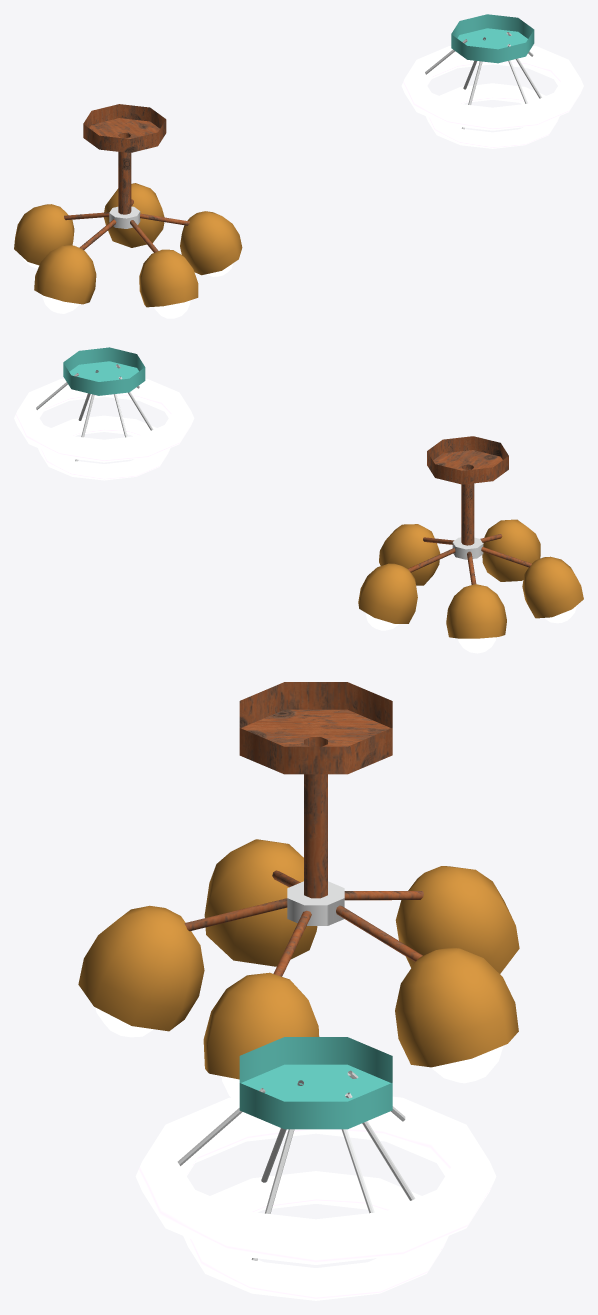
File: Lights.fbx
3 views of the same model, one above another, from view 1: azimuth 30°, elevation 25°; view 2: azimuth 150°, elevation 25°; view 3: azimuth 270°, elevation 25° (orthographic). The views are drawn at different scales.
Visible parts, largest first — view 1: Classic_light.001, Classic_light; view 2: Classic_light.001, Classic_light; view 3: Classic_light.001, Classic_light.
Part boxes in pixels (box(x1,y1,x2,y2)): Classic_light.001: box(14, 104, 242, 318); Classic_light: box(401, 14, 583, 148); Classic_light.001: box(358, 436, 583, 653); Classic_light: box(14, 347, 194, 480); Classic_light.001: box(78, 682, 519, 1097); Classic_light: box(135, 1037, 496, 1300).
Size of the model in its own units: 164 by 46.52 by 58.18.
1 material, 1 textured.
